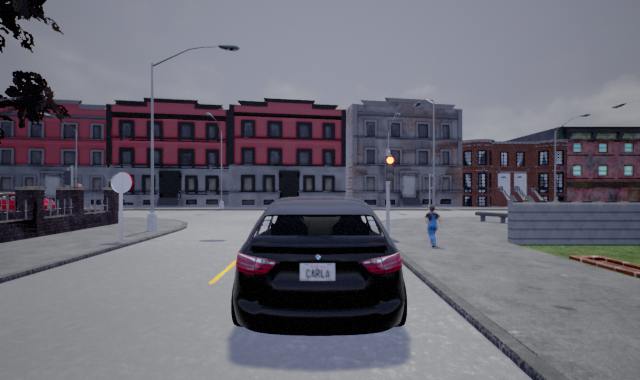pedestrian: (421, 205, 444, 250)
vehicle: (229, 196, 408, 335), (1, 192, 61, 217)
